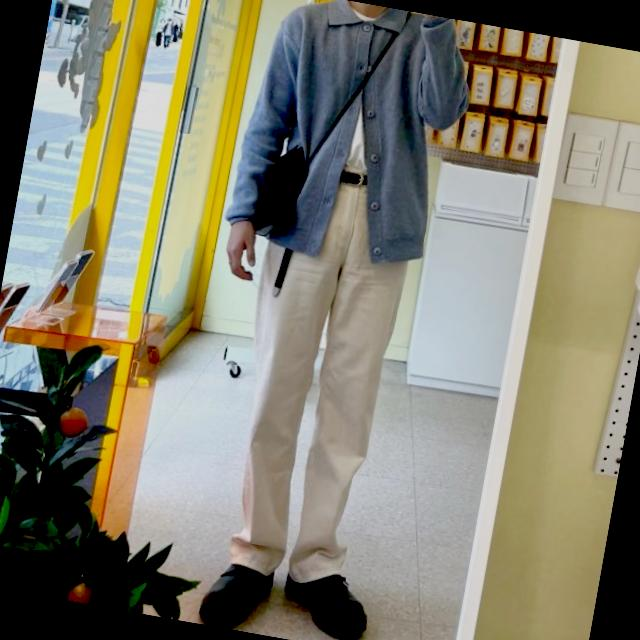cardigan: (220, 0, 477, 276)
cottonpants: (206, 143, 426, 593)
